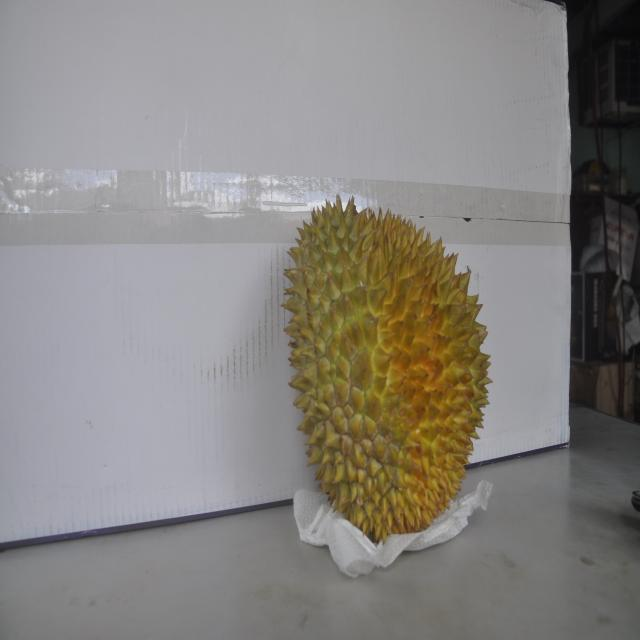mature: (289, 190, 486, 540)
